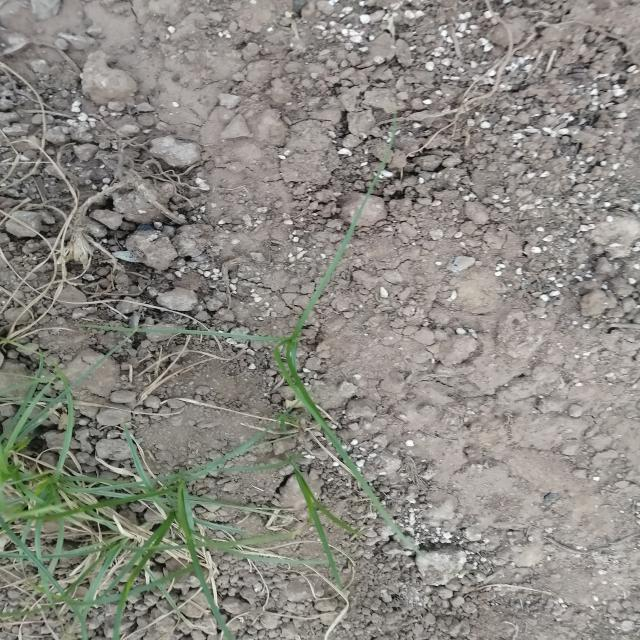sedge: (41, 330, 376, 640)
